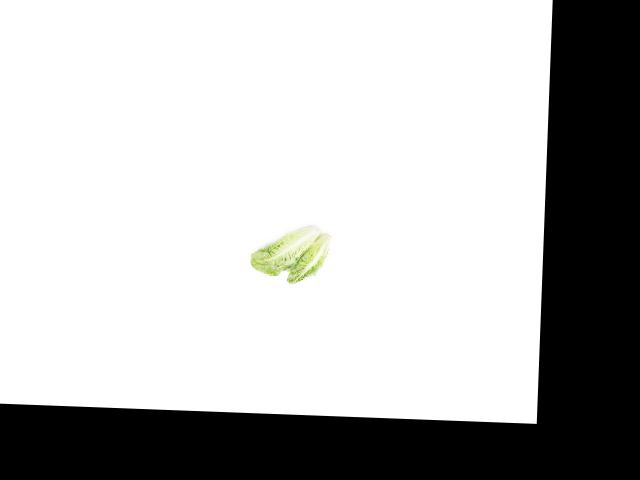lettuce: (249, 219, 315, 279)
